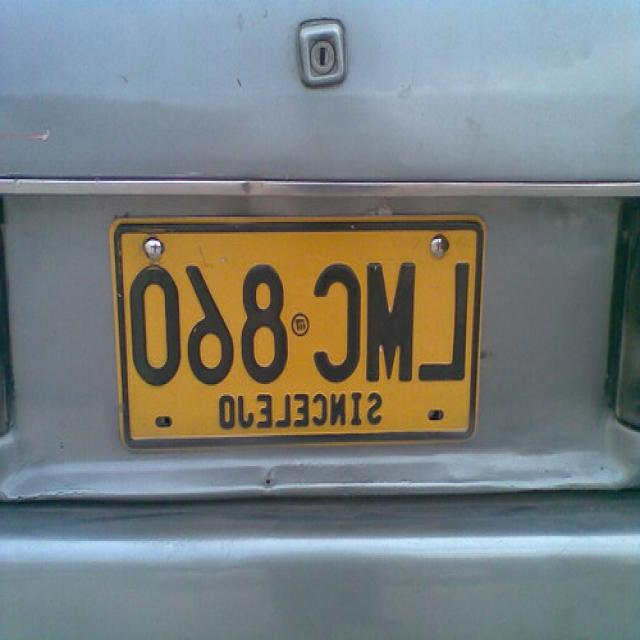placas: (116, 222, 477, 391)
